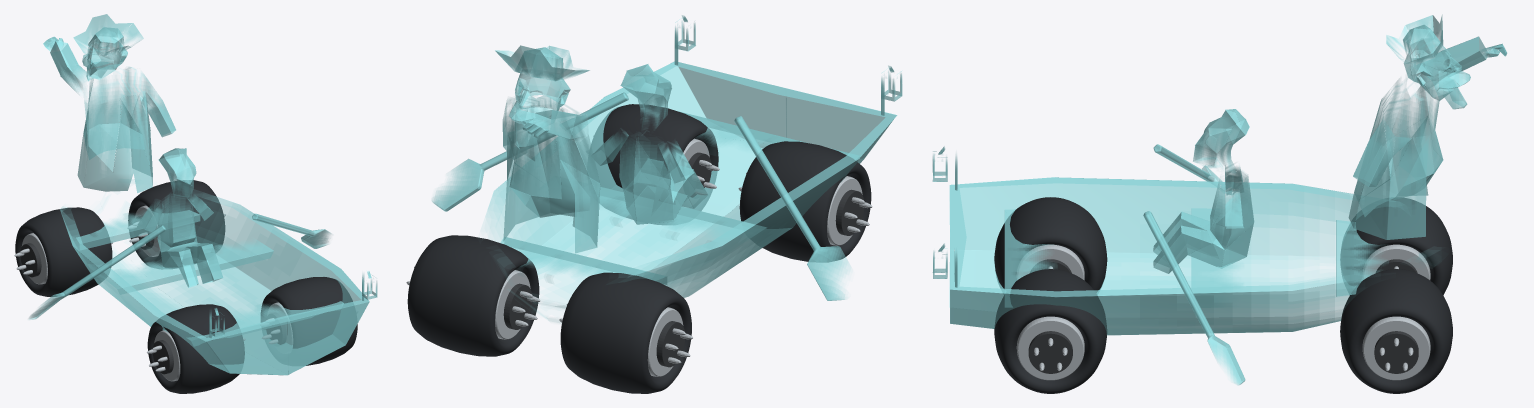
The model's file is car-ship.glb.
3 renders of one model, left to right at view 1: azimuth 30°, elevation 25°; view 2: azimuth 150°, elevation 25°; view 3: azimuth 270°, elevation 25°, orthographic. The views are drawn at different scales.
Parts seen in each view (by area): view 1: shipShape, Rounded tire.026, Rounded tire.025, Rounded tire.024, Rounded tire.027, oarLShape, oarRShape, Alloy rim.025, Alloy rim.026, Rim recess.050, Rim recess.052; view 2: shipShape, Rounded tire.027, Rounded tire.026, Rounded tire.025, Rounded tire.024, oarLShape, oarRShape, Alloy rim.027, Alloy rim.026, Alloy rim.025, Rim recess.050, Rim recess.054 (+2 smaller); view 3: shipShape, Rounded tire.027, Rounded tire.024, Rounded tire.025, Rounded tire.026, oarRShape, Alloy rim.027, Alloy rim.024, Rim recess.049, Rim recess.055, Alloy rim.026, Alloy rim.025 (+1 smaller).
Part boxes in pixels (box(x1,y1,x2,y2)): shipShape: box(43, 14, 377, 375); Rounded tire.026: box(15, 207, 112, 296); Rounded tire.025: box(147, 304, 244, 393); Rounded tire.024: box(260, 277, 357, 365); Rounded tire.027: box(128, 180, 225, 268); oarLShape: box(29, 225, 166, 319); oarRShape: box(252, 213, 331, 248); Alloy rim.025: box(154, 330, 180, 381); Alloy rim.026: box(21, 233, 47, 284); Rim recess.050: box(153, 340, 173, 374); Rim recess.052: box(20, 243, 41, 277); shipShape: box(481, 15, 902, 323); Rounded tire.027: box(407, 235, 539, 356); Rounded tire.026: box(560, 272, 691, 393); Rounded tire.025: box(739, 141, 871, 262); Rounded tire.024: box(590, 104, 718, 224); oarLShape: box(734, 116, 850, 300); oarRShape: box(431, 92, 628, 211); Alloy rim.027: box(495, 270, 530, 339); Alloy rim.026: box(647, 307, 683, 376); Alloy rim.025: box(827, 176, 862, 245); Rim recess.050: box(835, 189, 864, 235); Rim recess.054: box(503, 283, 532, 329); shipShape: box(932, 14, 1507, 335); Rounded tire.027: box(1340, 269, 1452, 393); Rounded tire.024: box(994, 269, 1106, 393); Rounded tire.025: box(994, 197, 1107, 292); Rounded tire.026: box(1340, 198, 1452, 294); oarRShape: box(1143, 211, 1245, 385); Alloy rim.027: box(1362, 316, 1430, 380); Alloy rim.024: box(1016, 316, 1084, 380); Rim recess.049: box(1028, 331, 1072, 373); Rim recess.055: box(1374, 331, 1418, 373); Alloy rim.026: box(1363, 244, 1430, 279); Alloy rim.025: box(1017, 244, 1084, 280).
Size of the model in its own units: 3.32 by 2.54 by 4.15.
4 materials, 1 textured.
